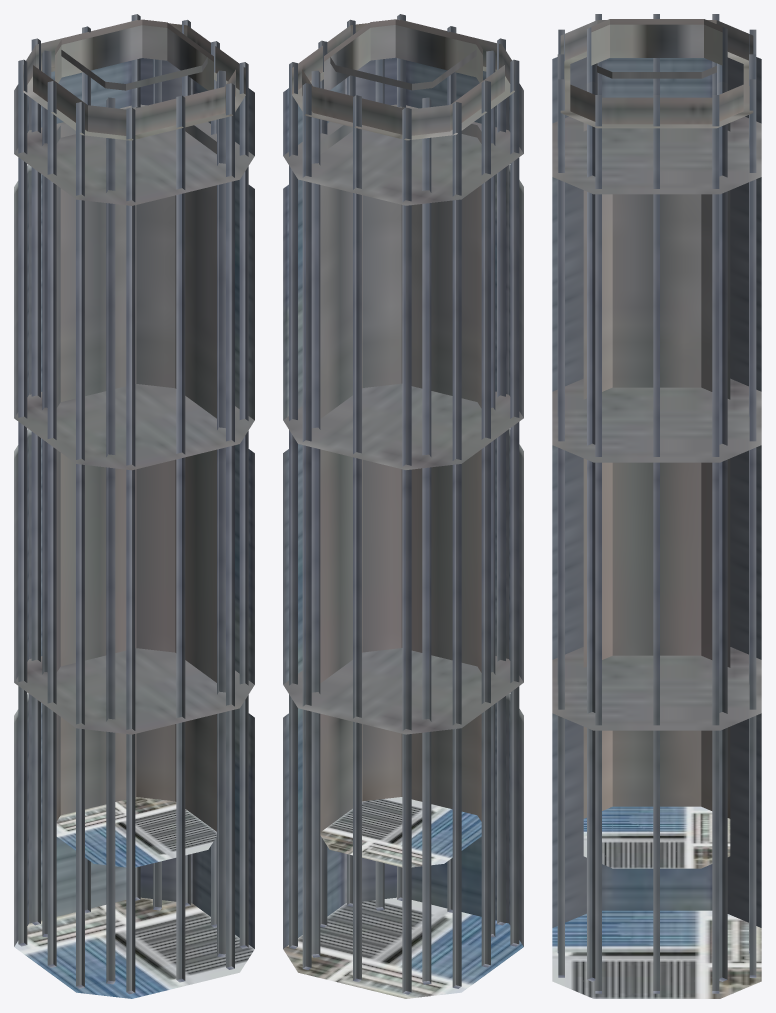
3 views of the same model, side by side, from view 1: azimuth 30°, elevation 25°; view 2: azimuth 150°, elevation 25°; view 3: azimuth 270°, elevation 25° (orthographic).
Bounding box in the file's own units: 0.3755 × 1.8 × 0.3755.
Materials: 1 (1 with a texture image).
